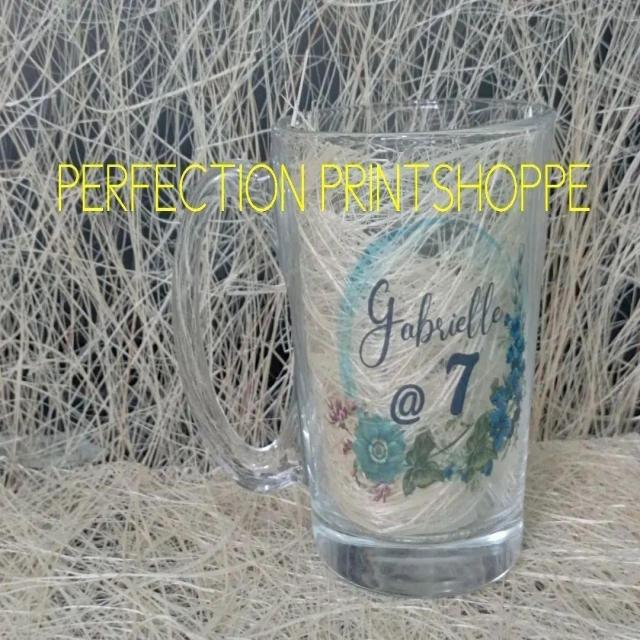glass-mug: (158, 98, 568, 602)
